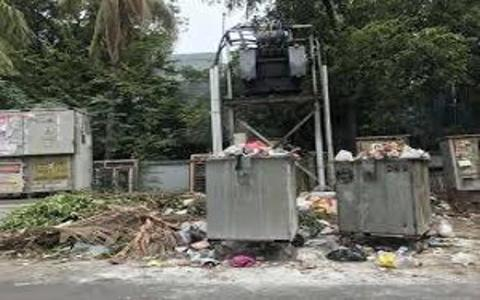overflowing garbage: (195, 145, 324, 274), (330, 140, 437, 286)
